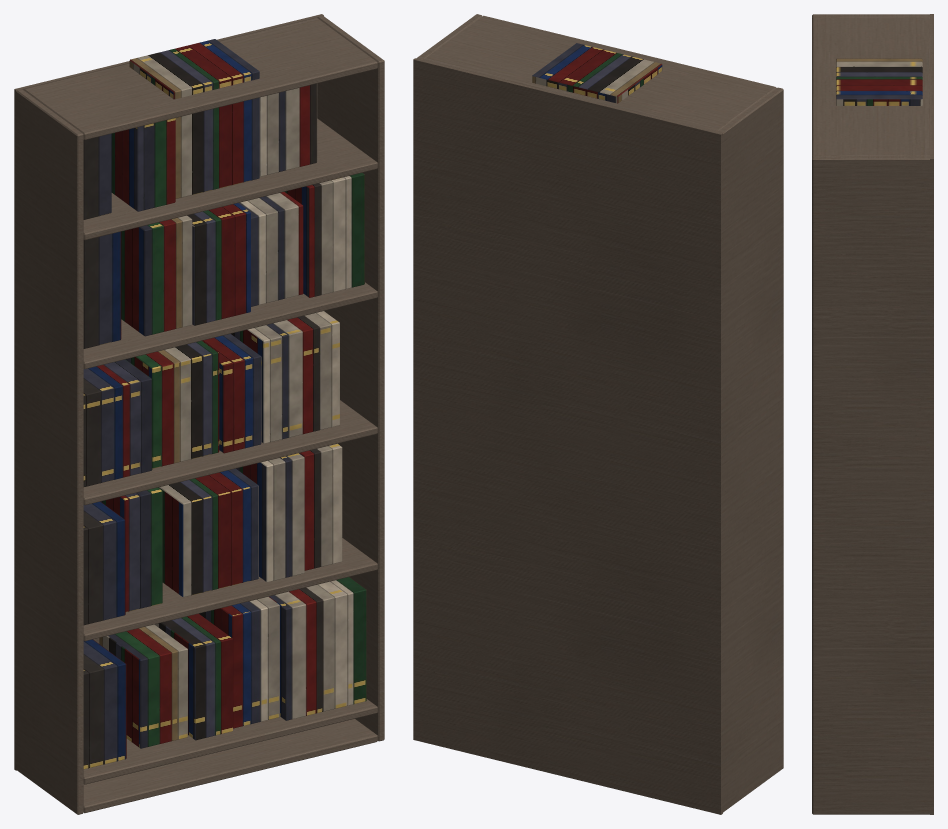
File: bookshelf.fbx
The picture shows the model from 3 angles, left to right: view 1: azimuth 30°, elevation 25°; view 2: azimuth 150°, elevation 25°; view 3: azimuth 270°, elevation 25°; orthographic projection. The views are drawn at different scales.
Visible parts, largest first — view 1: bookshelf; view 2: bookshelf; view 3: bookshelf.
Boxes of the visible parts, x1=… form: bookshelf: x1=14, y1=14, x2=384, y2=814; bookshelf: x1=413, y1=14, x2=783, y2=814; bookshelf: x1=812, y1=14, x2=933, y2=814.
Size of what is drawn, in the model's own units: 90 by 192 by 32.
Materials: 2 (2 with a texture image).
